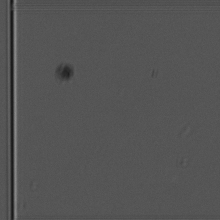Dead Cell: (53, 59, 80, 86)
